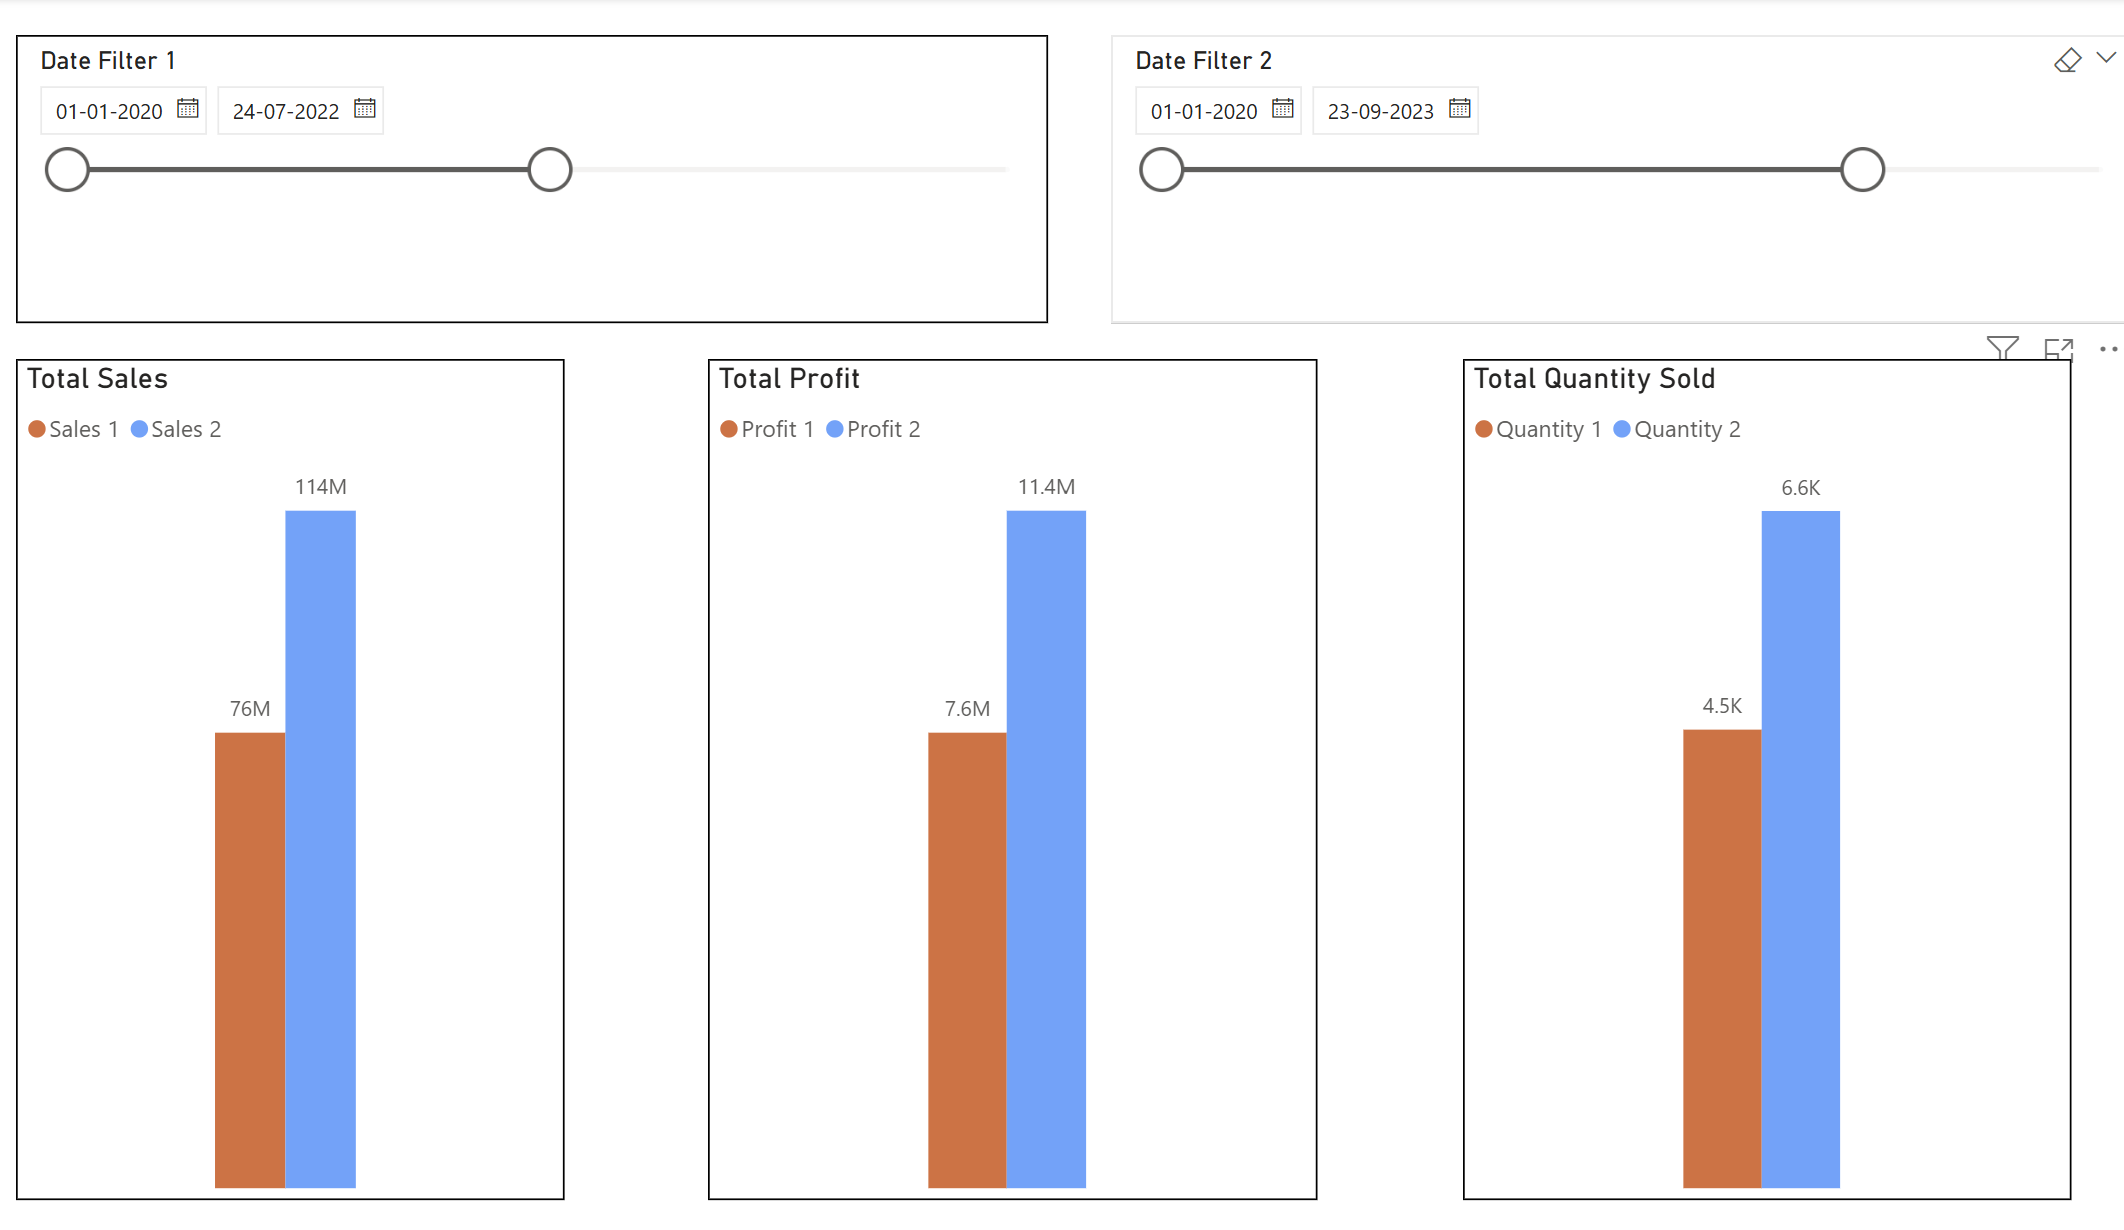

The page's visual inventory and layout, read from the dashboard file:
{"tool":"powerbi","page":{"name":"Comparison Sales/Profit/Quantity","canvas":[1280,720],"ordinal":2},"visuals":[{"type":"slicer","title":"Total Sales","fields":{"Values":["Date Table 1.Date"]},"box":[10.2,0,594.1,165.7],"z":0},{"type":"slicer","fields":{"Values":["Date Table 2.Date"]},"box":[640,0,594.1,165.7],"z":1000},{"type":"clusteredColumnChart","title":"Total Sales","fields":{"Y":["Sum(Fact Table.Net Sales  )","Date Table 1.Sum of Net Sales"]},"box":[10.2,209.1,316.2,484.5],"z":2000},{"type":"clusteredColumnChart","title":"Total Profit","fields":{"Y":["Sum(Fact Table.Profit)","Measures Table.Total Profit"]},"box":[409.2,209.1,350.6,484.5],"z":3000},{"type":"clusteredColumnChart","title":"Total Quantity Sold","fields":{"Y":["Sum(Fact Table.Units Sold)","Measures Table.Quantity Sold"]},"box":[842.7,209.1,350.6,484.5],"z":4000}]}

Visuals, with their boxes in screenshot pixels (x1, y1, x2, y2), scaled from the page's 1280x720 canvas onto the 2124x1230 screenshot:
"Total Sales" slicer: pyautogui.locateOnScreen(17, 0, 1003, 283)
slicer - Date Table 2.Date: pyautogui.locateOnScreen(1062, 0, 2048, 283)
"Total Sales" clusteredColumnChart: pyautogui.locateOnScreen(17, 357, 542, 1185)
"Total Profit" clusteredColumnChart: pyautogui.locateOnScreen(679, 357, 1261, 1185)
"Total Quantity Sold" clusteredColumnChart: pyautogui.locateOnScreen(1398, 357, 1980, 1185)
